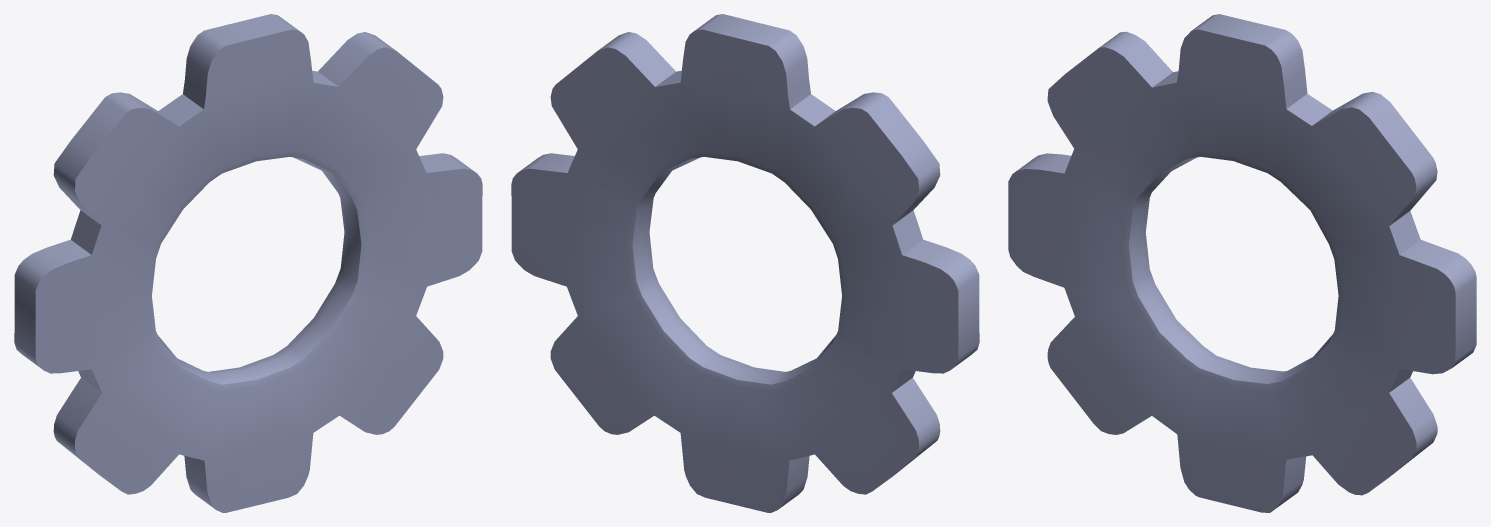
The model's file is Setting_2.fbx.
3 views of the same model, side by side, from view 1: azimuth 30°, elevation 25°; view 2: azimuth 150°, elevation 25°; view 3: azimuth 330°, elevation 25° (orthographic).
Visible parts, largest first — view 1: Setting_2; view 2: Setting_2; view 3: Setting_2.
Boxes of the visible parts, x1,y1,x2,y2 form: Setting_2: [14, 14, 482, 512]; Setting_2: [511, 14, 979, 512]; Setting_2: [1008, 14, 1476, 512].
Bounding box in the file's own units: 0.1607 × 0.1606 × 0.0131.
